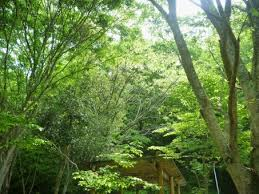forest: (3, 4, 255, 189)
tree: (4, 2, 111, 181), (152, 3, 259, 182)
